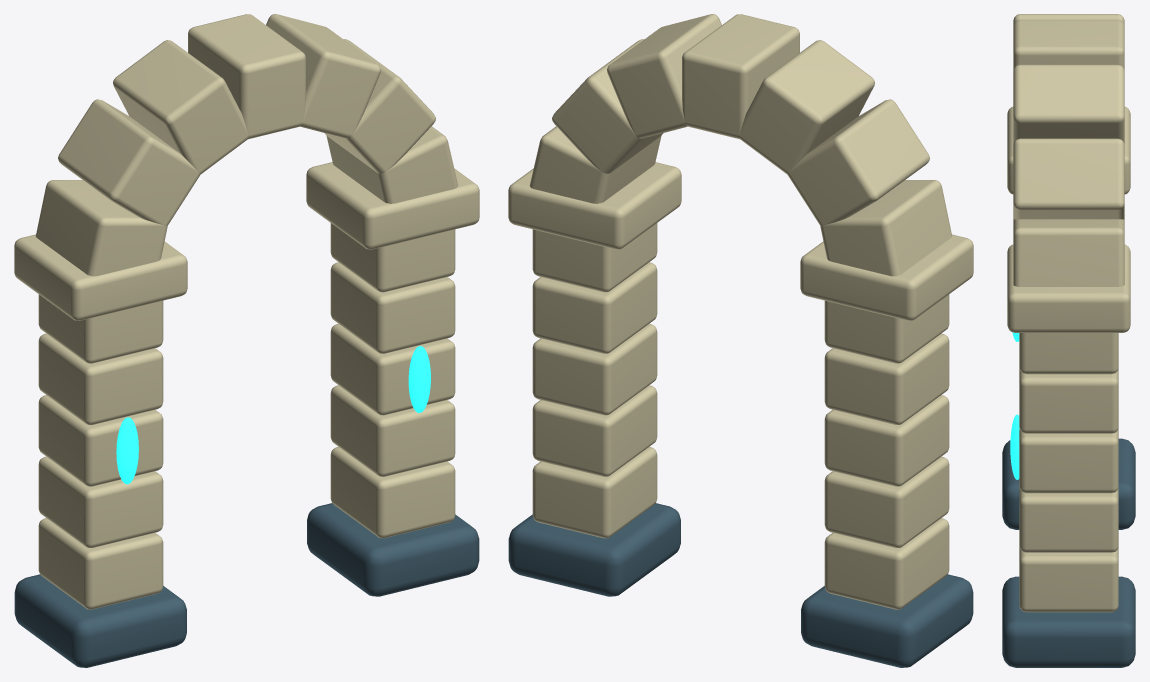
Rendered from ruin_arch.glb.
3 views of the same model, side by side, from view 1: azimuth 30°, elevation 25°; view 2: azimuth 150°, elevation 25°; view 3: azimuth 270°, elevation 25° (orthographic). The views are drawn at different scales.
Visible parts, largest first — view 1: ruin_arch_block.004, ruin_pillar_foot.001, ruin_pillar_foot, ruin_arch_block.005, ruin_arch_block.003, ruin_capital.001, ruin_arch_block.006, ruin_capital, ruin_pillar_block.003, ruin_pillar_block.008, ruin_pillar_block.005, ruin_pillar_block (+11 smaller); view 2: ruin_arch_block.004, ruin_pillar_foot.001, ruin_pillar_foot, ruin_arch_block.005, ruin_arch_block.003, ruin_capital.001, ruin_arch_block.006, ruin_capital, ruin_pillar_block.003, ruin_pillar_block.002, ruin_pillar_block.006, ruin_pillar_block.007 (+9 smaller); view 3: ruin_arch_block.001, ruin_pillar_foot.001, ruin_arch_block.002, ruin_arch_block, ruin_capital.001, ruin_pillar_block.005, ruin_pillar_block.007, ruin_pillar_block.006, ruin_pillar_block.008, ruin_arch_block.003, ruin_pillar_block.009, ruin_pillar_foot (+3 smaller).
Part boxes in pixels (x1,y1,x2,y2): ruin_arch_block.004: (113,40,248,174); ruin_pillar_foot.001: (307,503,479,596); ruin_pillar_foot: (14,574,186,667); ruin_arch_block.005: (58,99,200,225); ruin_arch_block.003: (188,14,305,139); ruin_capital.001: (306,162,479,249); ruin_arch_block.006: (36,180,167,276); ruin_capital: (14,234,187,320); ruin_pillar_block.003: (38,333,163,424); ruin_pillar_block.008: (330,262,455,353); ruin_pillar_block.005: (330,447,455,538); ruin_pillar_block: (38,518,163,609); ruin_arch_block.004: (739,40,874,174); ruin_pillar_foot.001: (508,503,680,596); ruin_pillar_foot: (801,574,973,667); ruin_arch_block.005: (787,99,929,225); ruin_arch_block.003: (682,14,799,139); ruin_capital.001: (508,162,681,249); ruin_arch_block.006: (820,180,951,276); ruin_capital: (800,234,973,320); ruin_pillar_block.003: (824,333,949,424); ruin_pillar_block.002: (824,395,949,486); ruin_pillar_block.006: (532,385,657,476); ruin_pillar_block.007: (532,324,657,415); ruin_arch_block.001: (1013,138,1124,219); ruin_pillar_foot.001: (1002,576,1135,667); ruin_arch_block.002: (1013,64,1124,144); ruin_arch_block: (1013,219,1124,286); ruin_capital.001: (1007,244,1130,332); ruin_pillar_block.005: (1019,547,1118,612); ruin_pillar_block.007: (1019,428,1118,493); ruin_pillar_block.006: (1019,487,1118,552); ruin_pillar_block.008: (1019,368,1118,433); ruin_arch_block.003: (1013,20,1124,70); ruin_pillar_block.009: (1019,333,1118,374); ruin_pillar_foot: (1002,438,1135,529).
Bounding box in the file's own units: 2.29 × 3.01 × 0.67.
